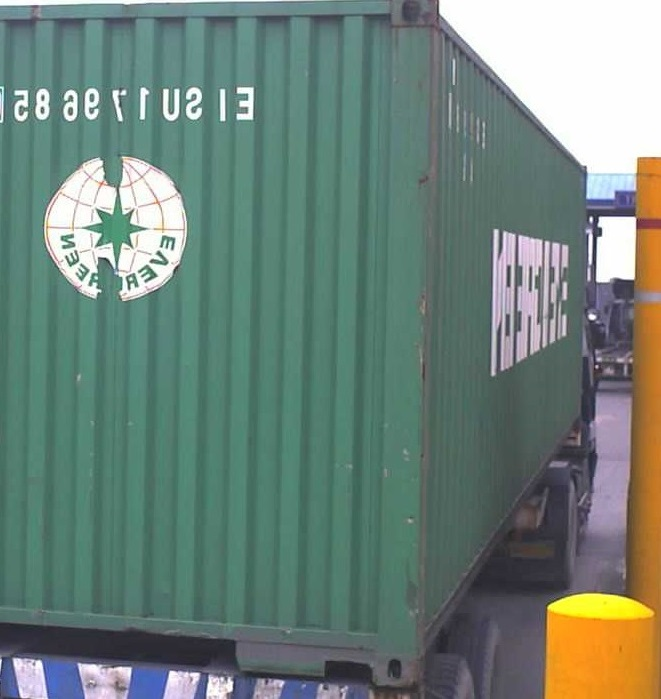container_no_door: (1, 2, 438, 690)
